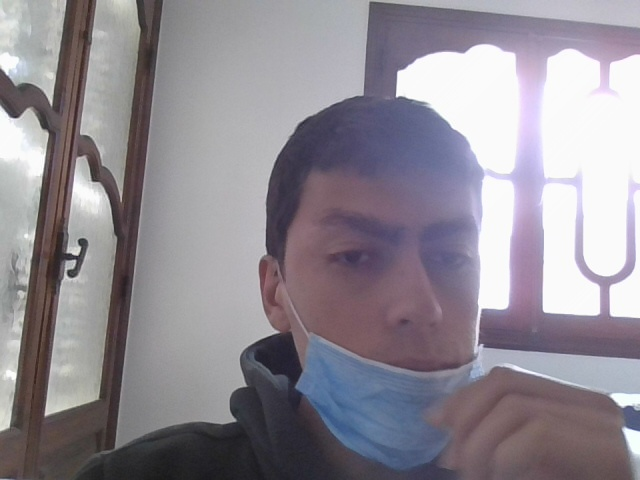mask_weared_incorrect: (266, 89, 504, 466)
